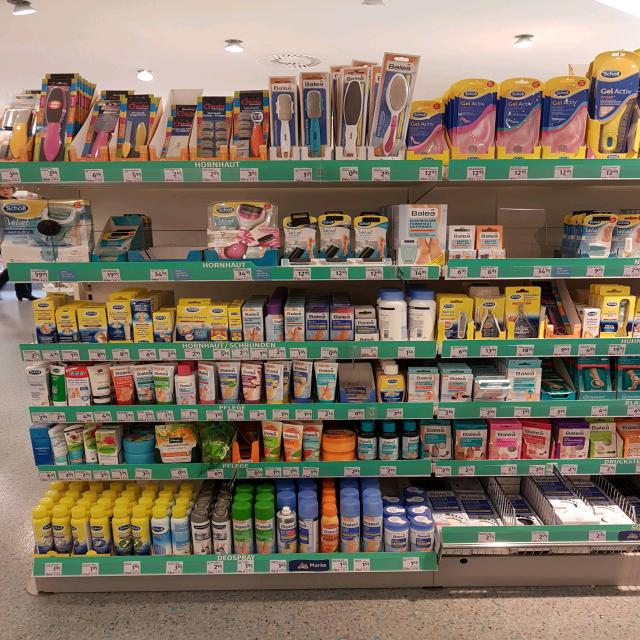void: (534, 190, 574, 284), (506, 184, 520, 276)
